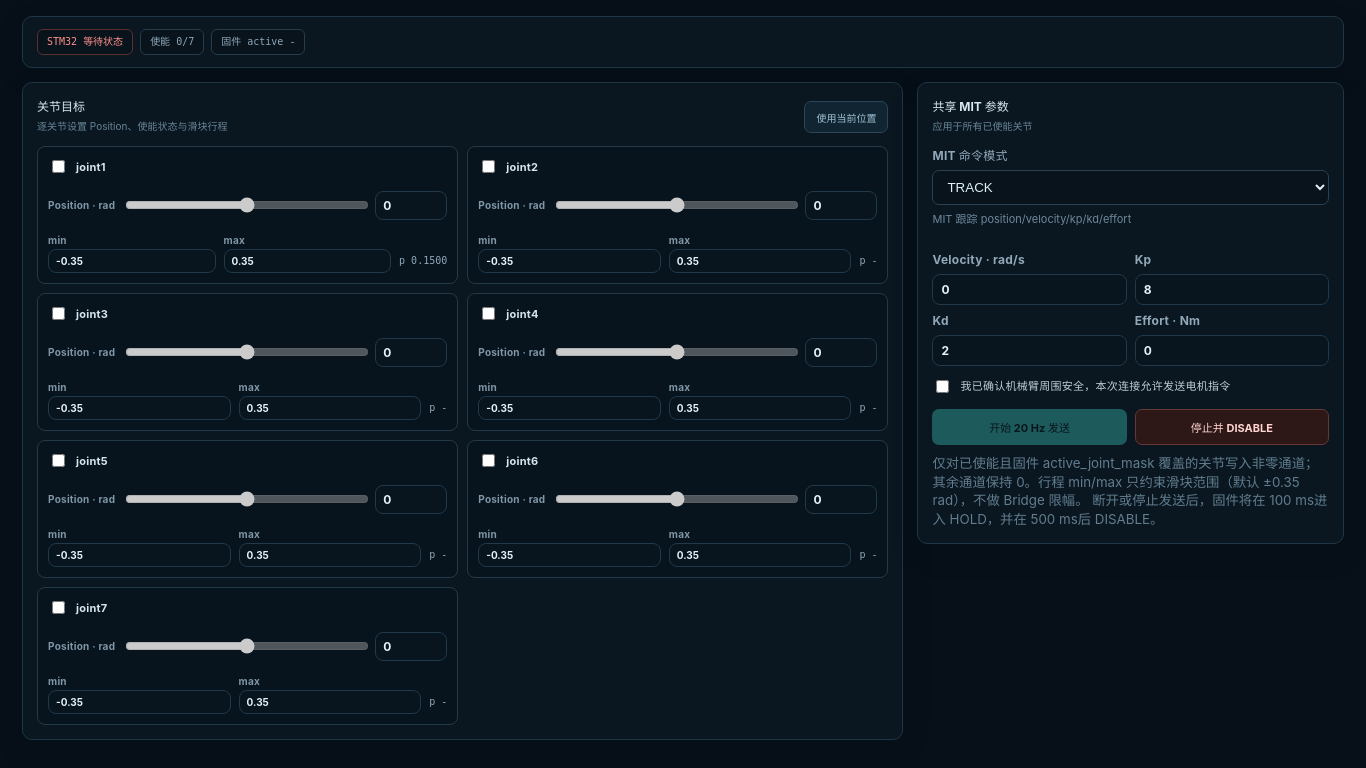
MotorControl › arming once does not overwrite an edited position
Click the checkbox named "joint1 使能" at (58, 166), box 52,160 -> 65,173
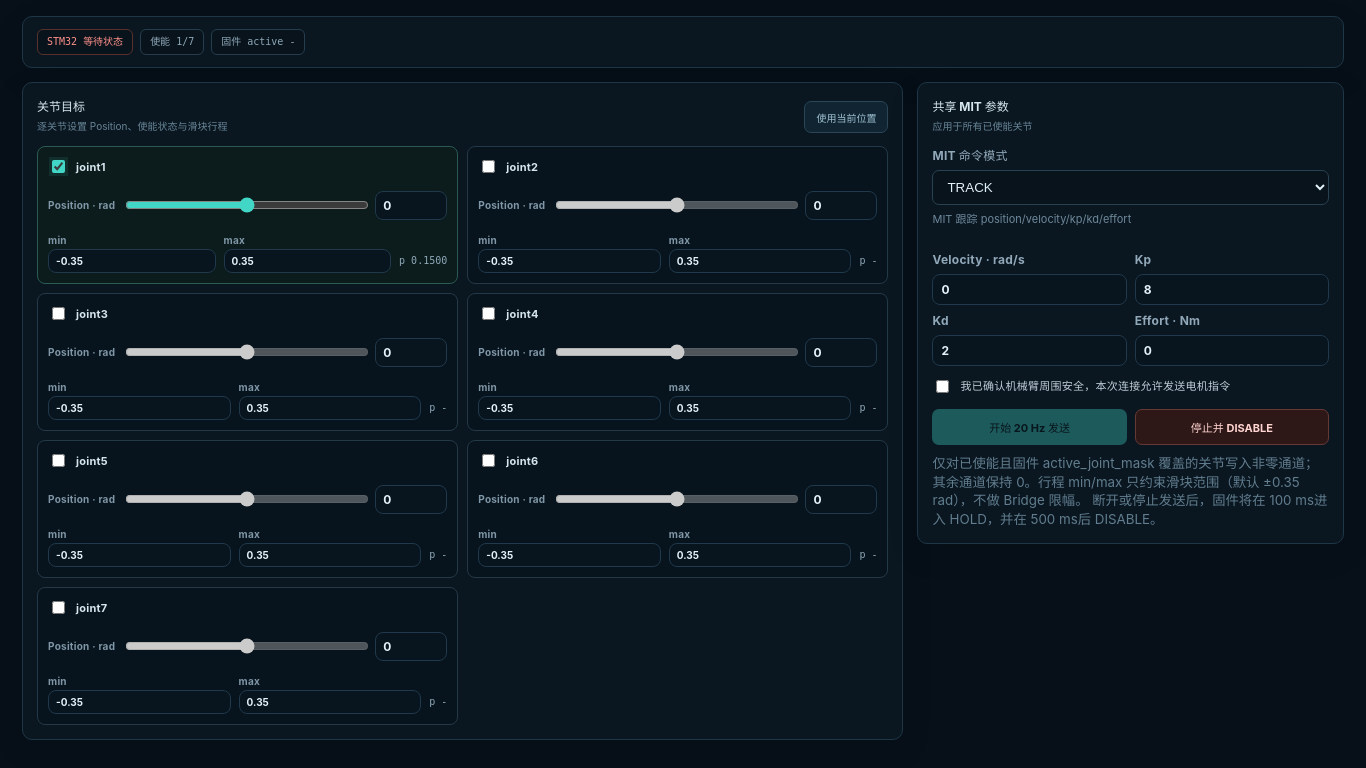
Replace the text in the field named "joint1 Position · rad" with "0.6" at (411, 205), box 375,190 -> 447,220
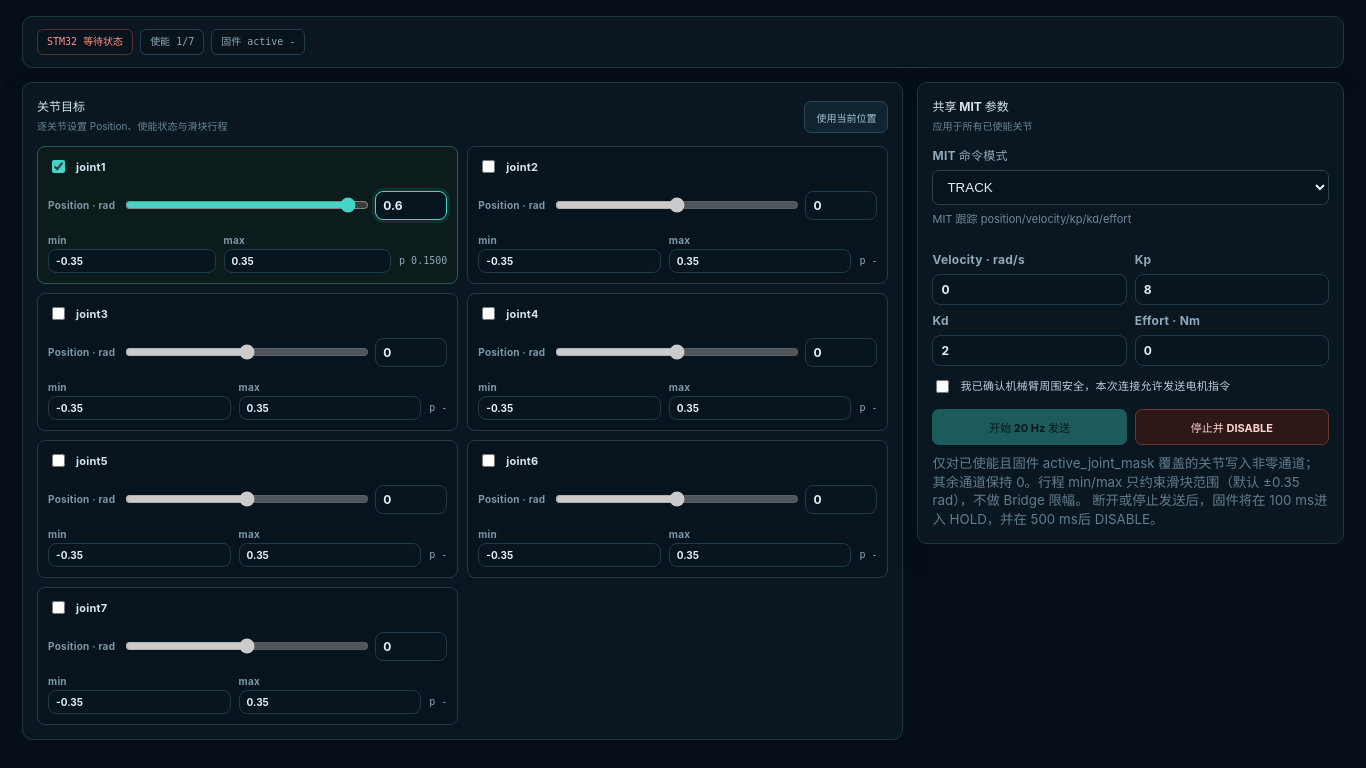
Click the checkbox named "安全确认" at (943, 386), box 936,380 -> 950,393
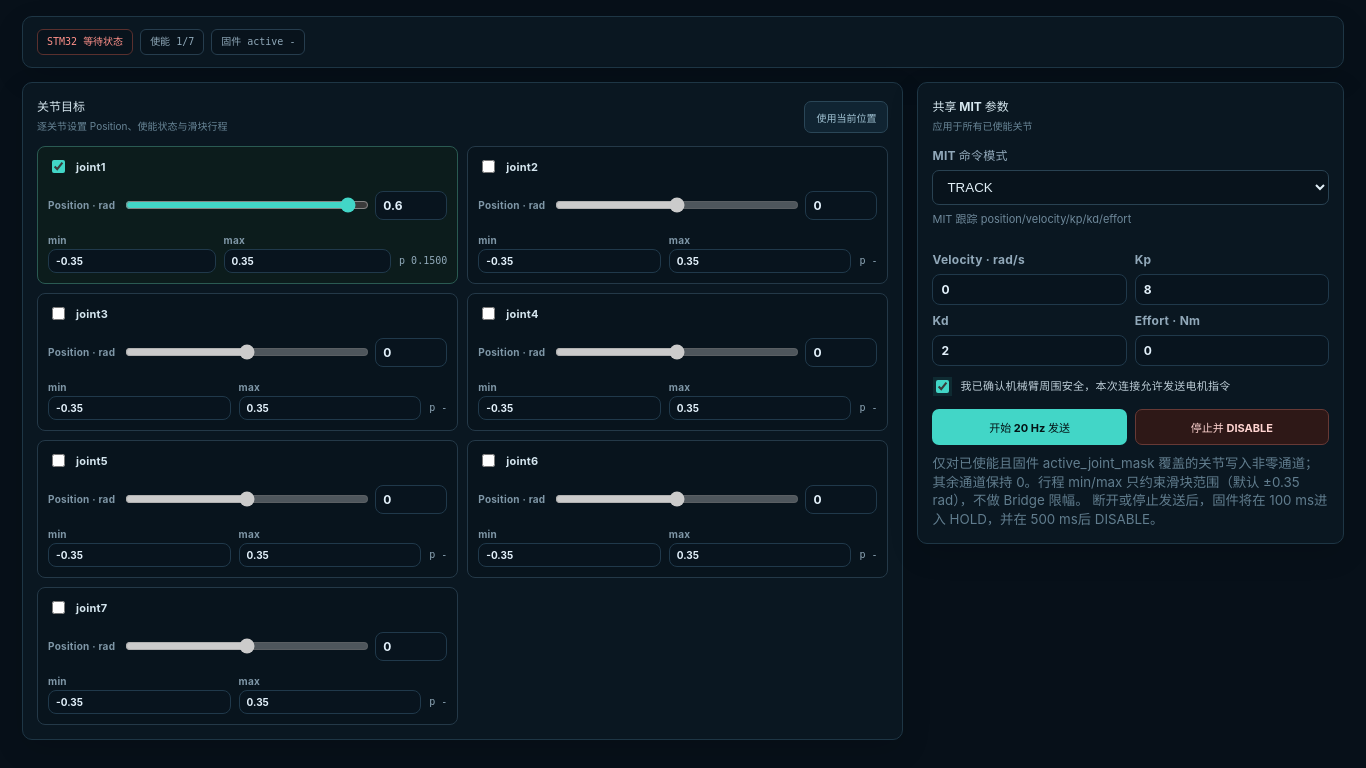
Click the button "使用当前位置" at (846, 117), box 804,101 -> 888,133
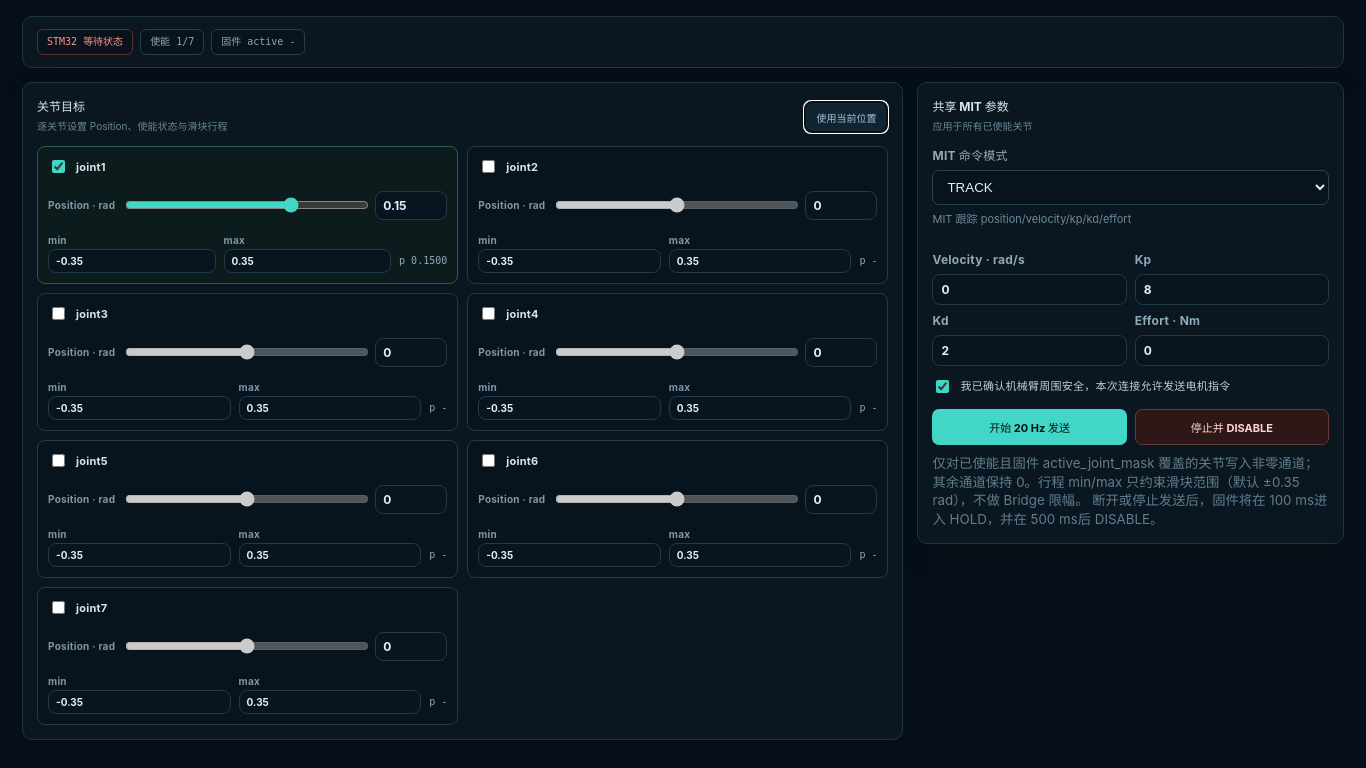
Result: the field named "joint1 Position · rad" holds "0.15" at 375,190 -> 447,220
